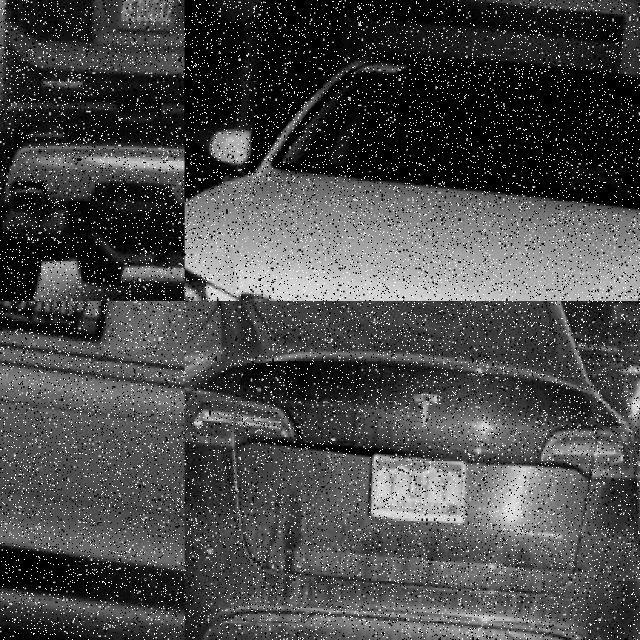LicensePlate: (0, 300, 114, 373), (360, 458, 459, 533), (106, 0, 179, 40)
